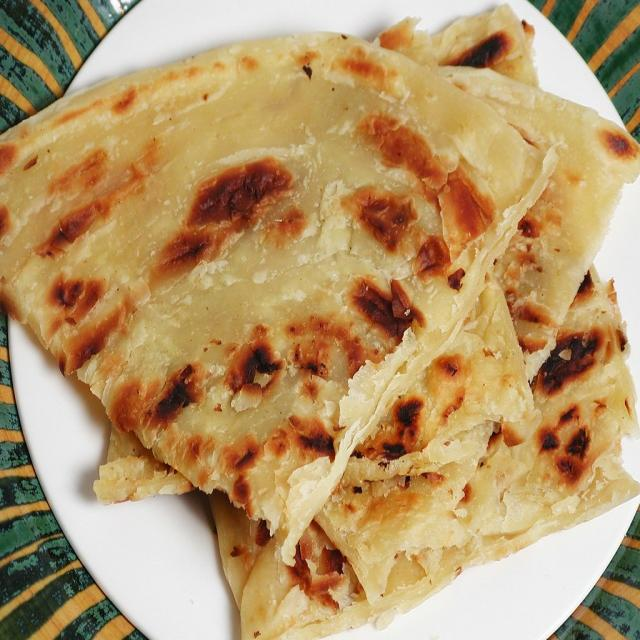ROTI: (1, 32, 639, 638)
